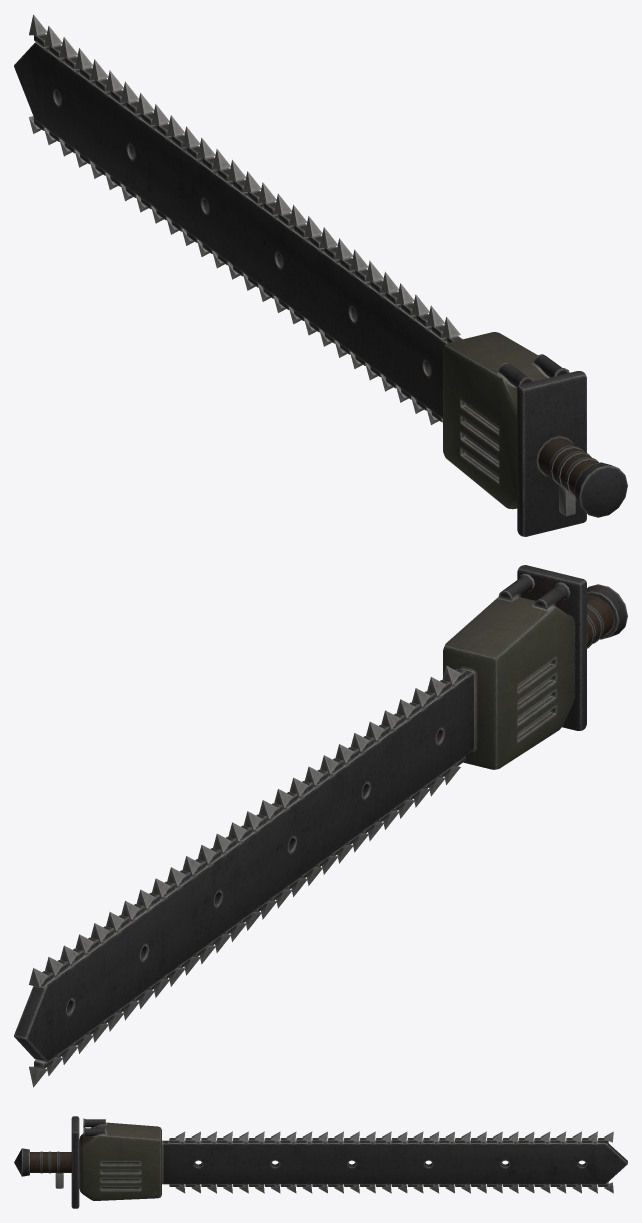
The model's file is standard_toothsword_1h.glb.
3 views of the same model, one above another, from view 1: azimuth 30°, elevation 25°; view 2: azimuth 150°, elevation 25°; view 3: azimuth 270°, elevation 25° (orthographic). The views are drawn at different scales.
Visible parts, largest first — view 1: standard_toothsword_1h; view 2: standard_toothsword_1h; view 3: standard_toothsword_1h.
Part boxes in pixels (x1=…): standard_toothsword_1h: x1=14, y1=14, x2=627, y2=536; standard_toothsword_1h: x1=14, y1=565, x2=627, y2=1087; standard_toothsword_1h: x1=14, y1=1116, x2=627, y2=1208.
Bounding box in the file's own units: 0.06 × 0.1301 × 0.9284.
Materials: 1 (1 with a texture image).
